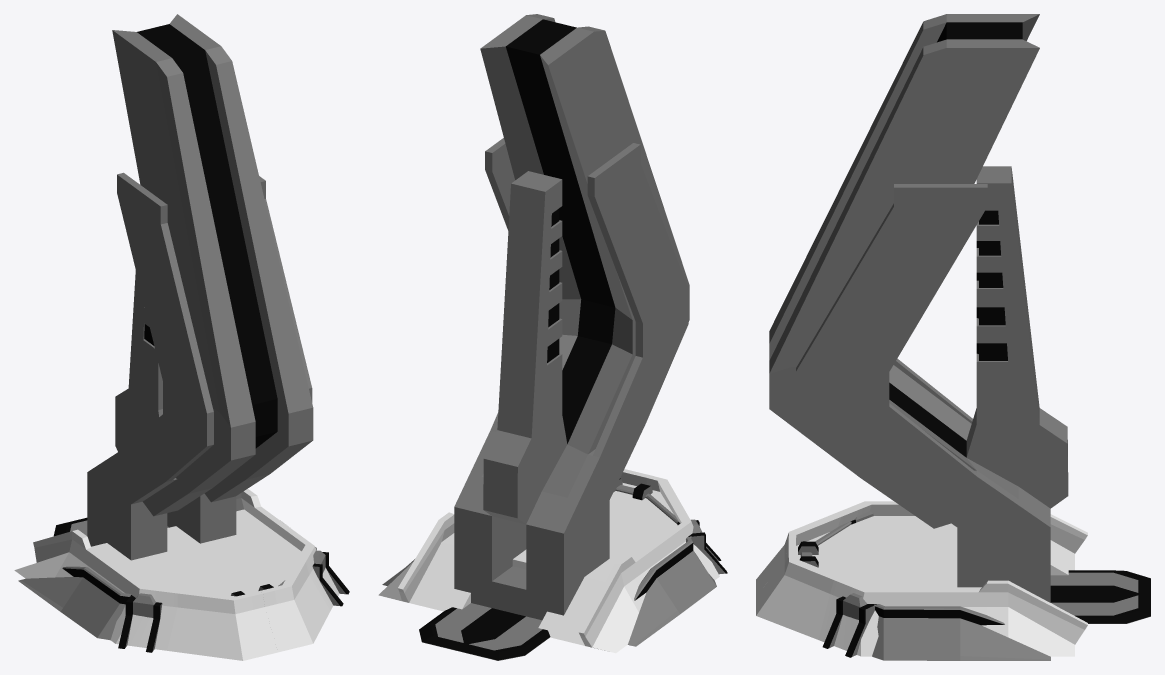
The model's file is valhalla base.fbx.
The picture shows the model from 3 angles, left to right: view 1: azimuth 30°, elevation 25°; view 2: azimuth 150°, elevation 25°; view 3: azimuth 270°, elevation 25°; orthographic projection. The views are drawn at different scales.
Visible parts, largest first — view 1: Cube.001, Cube; view 2: Cube.001, Cube; view 3: Cube.001, Cube.
Boxes of the visible parts, box(x1,y1,x2,y2) form: Cube.001: box(18, 14, 349, 652); Cube: box(14, 488, 339, 660); Cube.001: box(382, 14, 727, 660); Cube: box(378, 469, 719, 653); Cube.001: box(769, 14, 1150, 660); Cube: box(756, 501, 1087, 656).
Size of the model in its own units: 8541 by 17841 by 11259.
